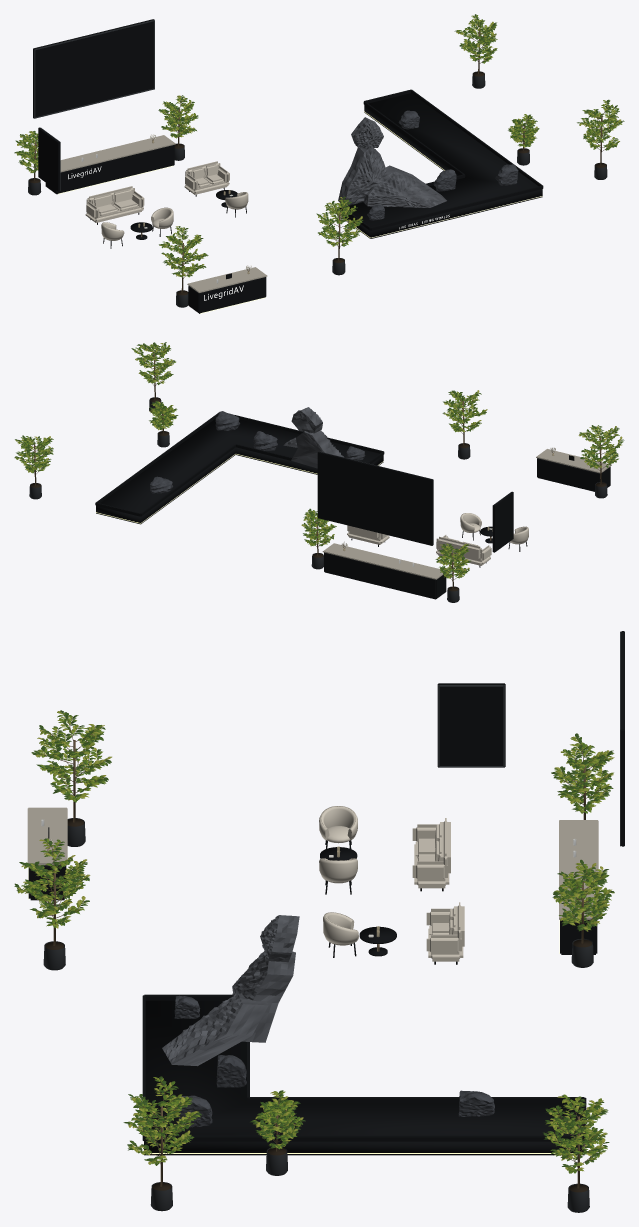
The model's file is grand-anamorphic-interior.glb.
The picture shows the model from 3 angles, top to bottom: view 1: azimuth 30°, elevation 25°; view 2: azimuth 150°, elevation 25°; view 3: azimuth 270°, elevation 25°; orthographic projection. The views are drawn at different scales.
Parts seen in each view (by area): view 1: grand-anamorphic-interior | basin | Reception | black archit, grand-anamorphic-interior | rear-gallery-screen | Reception  (×2), grand-anamorphic-interior | botanical | Content Studio | nat (×2), grand-anamorphic-interior | natural-rocks | Anamorphic | lay, grand-anamorphic-interior | rear-service-counter | Reception, grand-anamorphic-interior | rear-lounge | Reception | pale i, grand-anamorphic-interior | front-reception | Reception | bl, grand-anamorphic-interior | inner-consultation | Reception |, grand-anamorphic-interior | rear-service-counter | Content S, grand-anamorphic-interior | botanical | Reception | dark sat, grand-anamorphic-interior | side-gallery-screen | Reception , grand-anamorphic-interior | front-reception | Content Studio; view 2: grand-anamorphic-interior | basin | Reception | black archit, grand-anamorphic-interior | rear-gallery-screen | Reception , grand-anamorphic-interior | botanical | Content Studio | nat (×2), grand-anamorphic-interior | natural-rocks | Anamorphic | lay, grand-anamorphic-interior | rear-service-counter | Reception, grand-anamorphic-interior | rear-lounge | Reception | pale i, grand-anamorphic-interior | front-reception | Reception | bl, grand-anamorphic-interior | rear-service-counter | Content S, grand-anamorphic-interior | botanical | Reception | dark sat, grand-anamorphic-interior | side-gallery-screen | Reception , grand-anamorphic-interior | front-reception | Content Studio, grand-anamorphic-interior | inner-consultation | Reception |; view 3: grand-anamorphic-interior | basin | Reception | black archit, grand-anamorphic-interior | botanical | Content Studio | nat (×2), grand-anamorphic-interior | natural-rocks | Anamorphic | lay, grand-anamorphic-interior | side-gallery-screen | Reception , grand-anamorphic-interior | rear-lounge | Reception | pale i, grand-anamorphic-interior | inner-consultation | Reception |, grand-anamorphic-interior | botanical | Reception | dark sat, grand-anamorphic-interior | rear-service-counter | Content S, grand-anamorphic-interior | front-reception | Content Studio, grand-anamorphic-interior | rear-gallery-screen | Reception , grand-anamorphic-interior | rear-service-counter | Reception.
Part boxes in pixels (x1,y1,x2,y2): grand-anamorphic-interior | basin | Reception | black archit: [339, 89, 543, 238]; grand-anamorphic-interior | rear-gallery-screen | Reception  (×2): [33, 19, 154, 118]; grand-anamorphic-interior | botanical | Content Studio | nat (×2): [14, 14, 624, 292]; grand-anamorphic-interior | natural-rocks | Anamorphic | lay: [338, 110, 518, 220]; grand-anamorphic-interior | rear-service-counter | Reception: [45, 145, 174, 194]; grand-anamorphic-interior | rear-lounge | Reception | pale i: [85, 186, 173, 240]; grand-anamorphic-interior | front-reception | Reception | bl: [188, 273, 266, 313]; grand-anamorphic-interior | inner-consultation | Reception |: [184, 161, 248, 209]; grand-anamorphic-interior | rear-service-counter | Content S: [60, 135, 175, 172]; grand-anamorphic-interior | botanical | Reception | dark sat: [28, 71, 607, 307]; grand-anamorphic-interior | side-gallery-screen | Reception : [38, 127, 59, 191]; grand-anamorphic-interior | front-reception | Content Studio: [187, 267, 267, 292]; grand-anamorphic-interior | basin | Reception | black archit: [95, 412, 384, 524]; grand-anamorphic-interior | rear-gallery-screen | Reception : [317, 451, 433, 545]; grand-anamorphic-interior | botanical | Content Studio | nat (×2): [14, 342, 624, 589]; grand-anamorphic-interior | natural-rocks | Anamorphic | lay: [150, 407, 365, 493]; grand-anamorphic-interior | rear-service-counter | Reception: [324, 552, 446, 599]; grand-anamorphic-interior | rear-lounge | Reception | pale i: [436, 513, 528, 565]; grand-anamorphic-interior | front-reception | Reception | bl: [537, 455, 610, 491]; grand-anamorphic-interior | rear-service-counter | Content S: [322, 543, 444, 579]; grand-anamorphic-interior | botanical | Reception | dark sat: [29, 397, 607, 602]; grand-anamorphic-interior | side-gallery-screen | Reception : [493, 491, 513, 552]; grand-anamorphic-interior | front-reception | Content Studio: [536, 449, 611, 473]; grand-anamorphic-interior | inner-consultation | Reception |: [347, 525, 389, 544]; grand-anamorphic-interior | basin | Reception | black archit: [142, 994, 586, 1155]; grand-anamorphic-interior | botanical | Content Studio | nat (×2): [14, 710, 614, 1188]; grand-anamorphic-interior | natural-rocks | Anamorphic | lay: [162, 915, 494, 1127]; grand-anamorphic-interior | side-gallery-screen | Reception : [437, 683, 505, 766]; grand-anamorphic-interior | rear-lounge | Reception | pale i: [319, 806, 450, 888]; grand-anamorphic-interior | inner-consultation | Reception |: [323, 902, 464, 961]; grand-anamorphic-interior | botanical | Reception | dark sat: [43, 818, 593, 1212]; grand-anamorphic-interior | rear-service-counter | Content S: [559, 820, 598, 919]; grand-anamorphic-interior | front-reception | Content Studio: [27, 807, 67, 865]; grand-anamorphic-interior | rear-gallery-screen | Reception : [621, 631, 624, 846]; grand-anamorphic-interior | rear-service-counter | Reception: [560, 920, 597, 954].
Bounding box in the file's own units: 23.73 × 6.22 × 15.39.
Materials: 18 (1 with a texture image).
